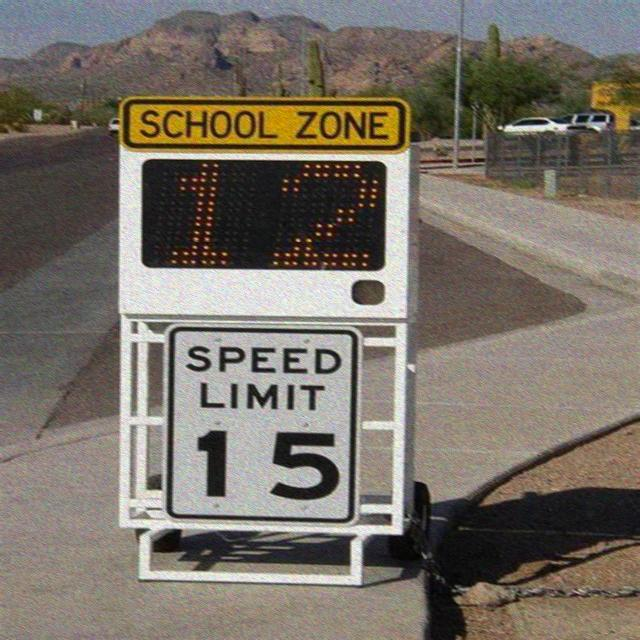speedLimit15: (174, 330, 357, 529)
